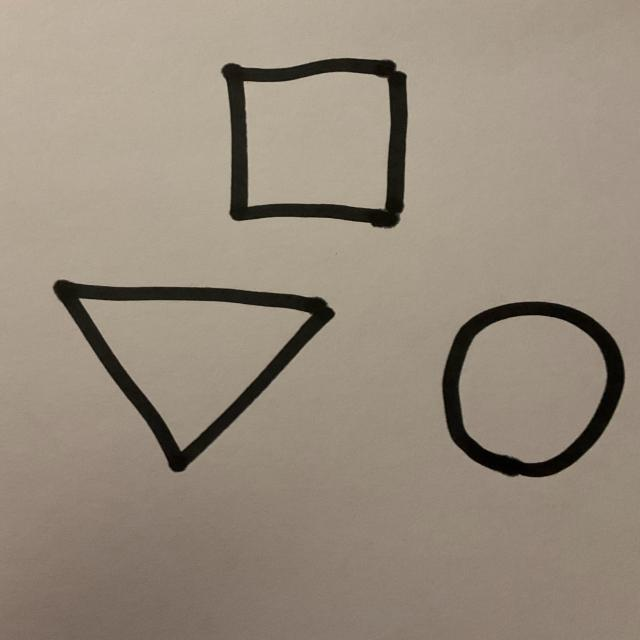Dreieck: (52, 280, 336, 475)
Kreis: (440, 302, 628, 481)
Quadrat: (220, 59, 410, 230)
